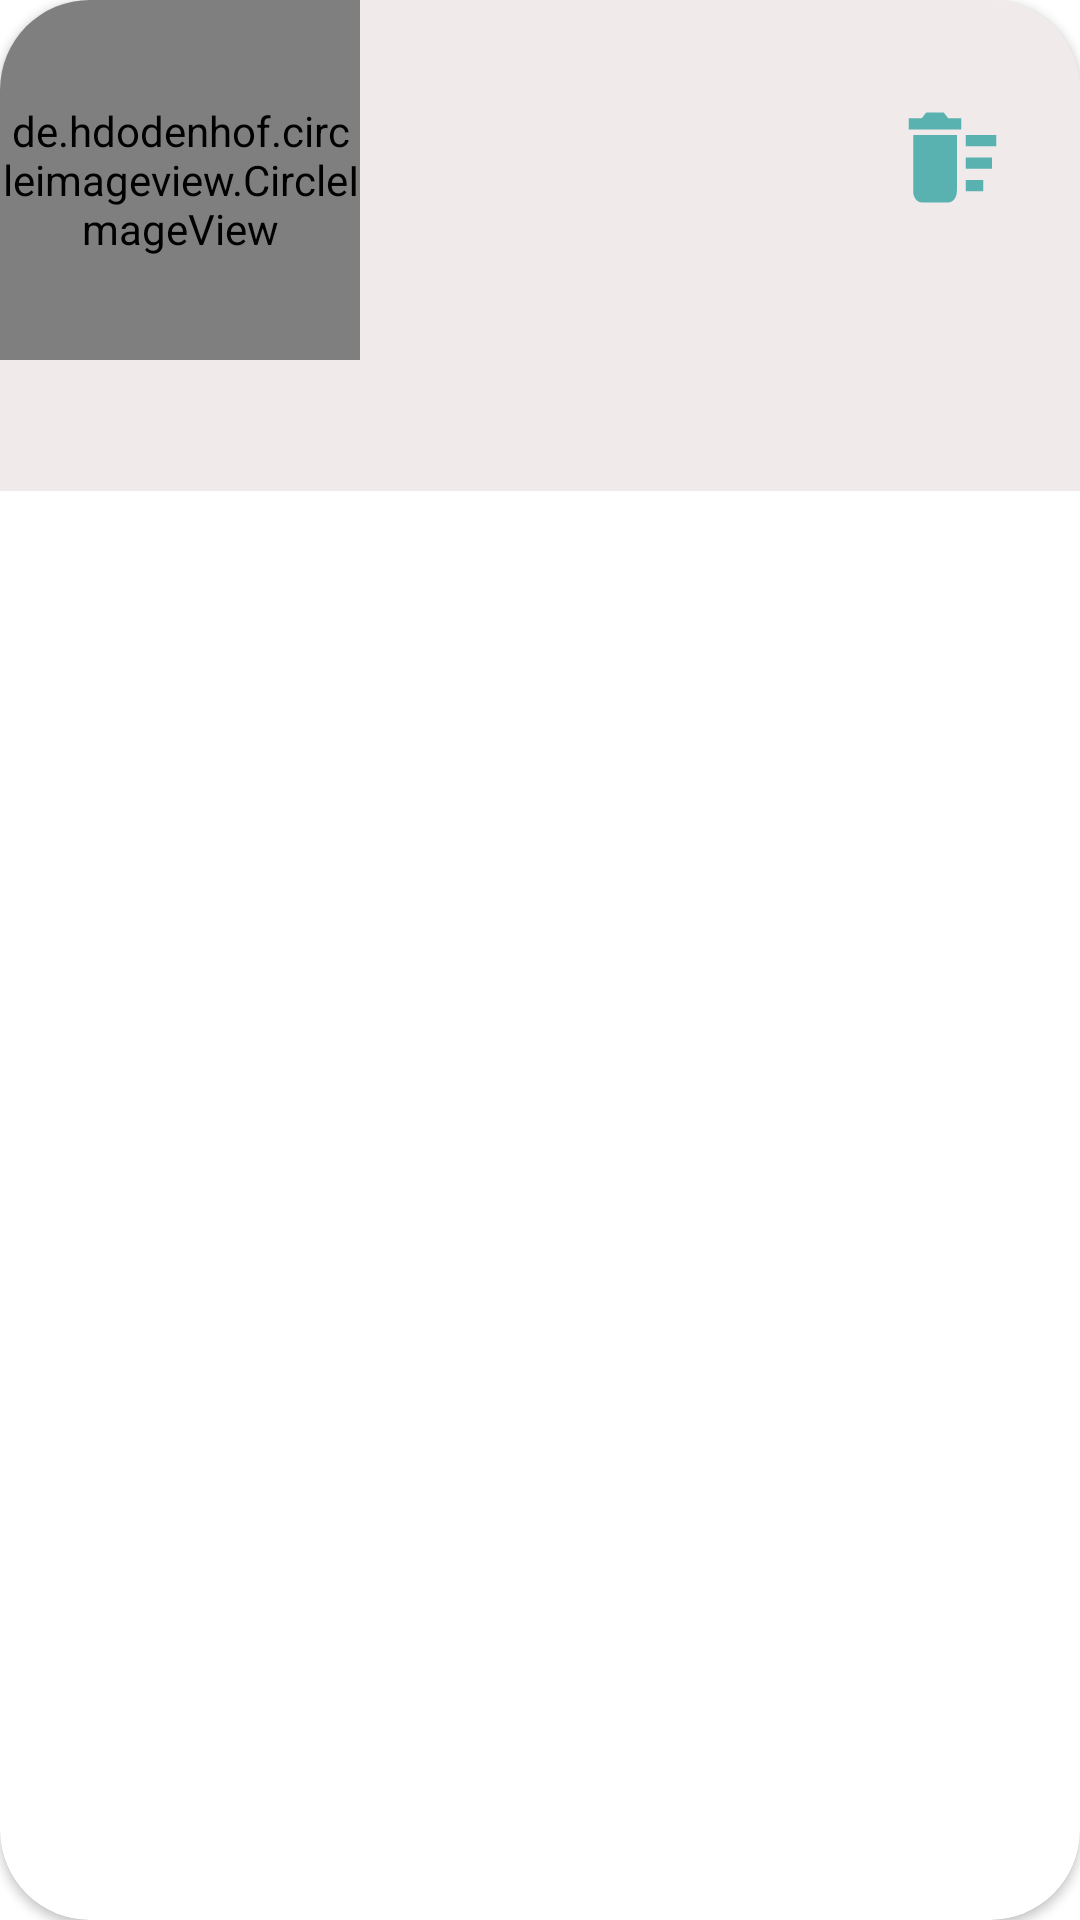

Screen size 1080 × 1920. Icon name, then its center in pixels as [x,y]:
delete sweep: [952,157]
